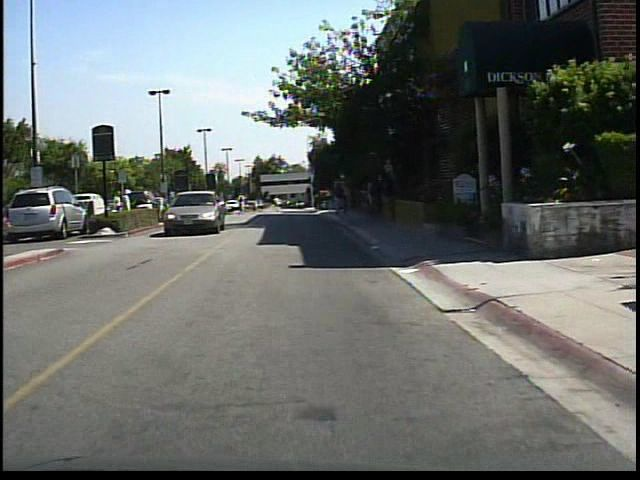person: (332, 176, 349, 218), (163, 185, 180, 225), (121, 186, 137, 228), (111, 188, 126, 229), (236, 189, 249, 217)
